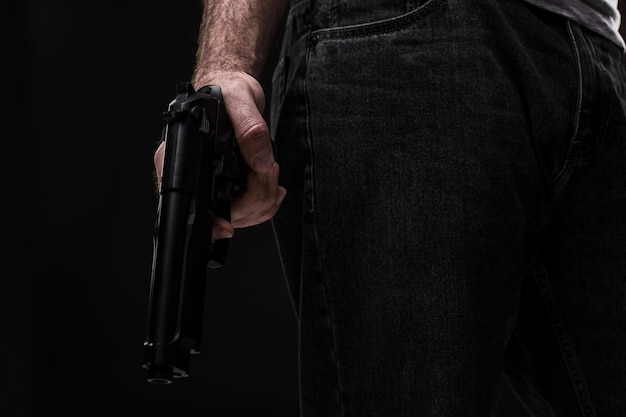gun: (138, 85, 256, 389)
